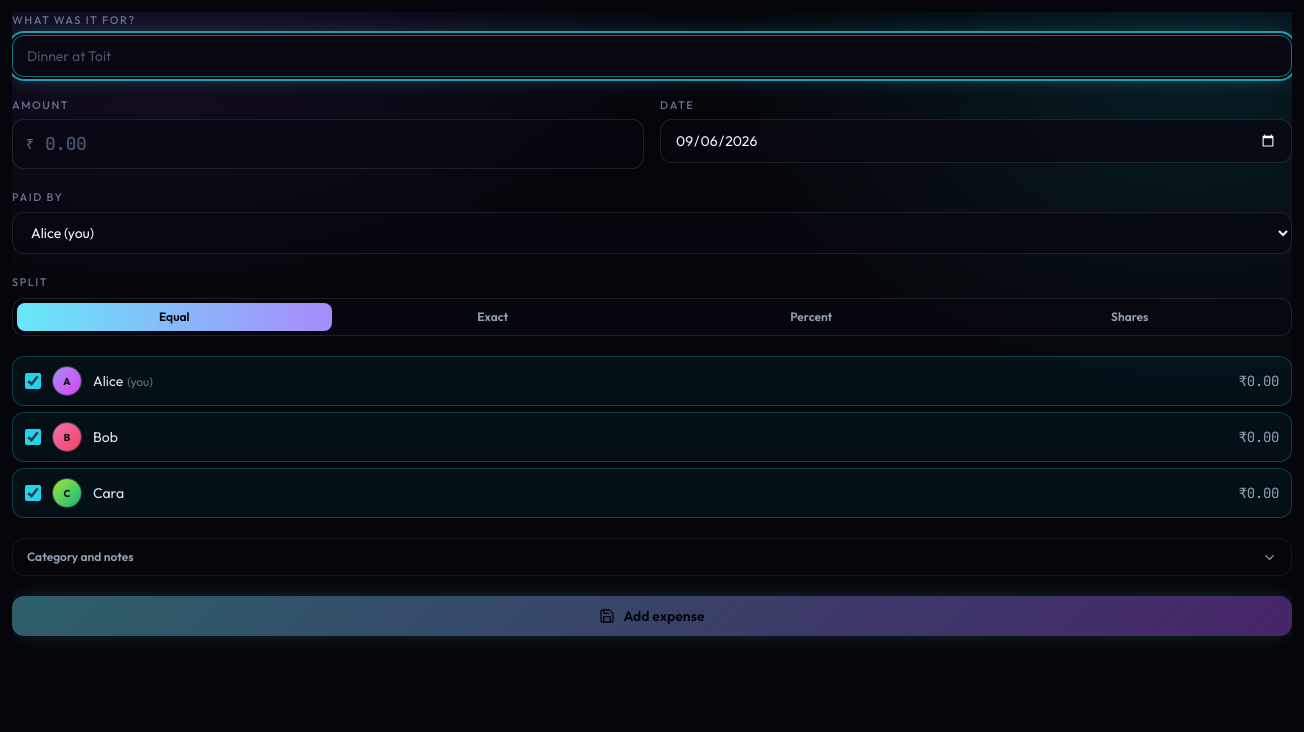
ExpenseForm › split-total validation › distributes evenly on demand
Type "Dinner" into the field labelled "What was it for?" at (652, 56), box [12, 34, 1292, 76]
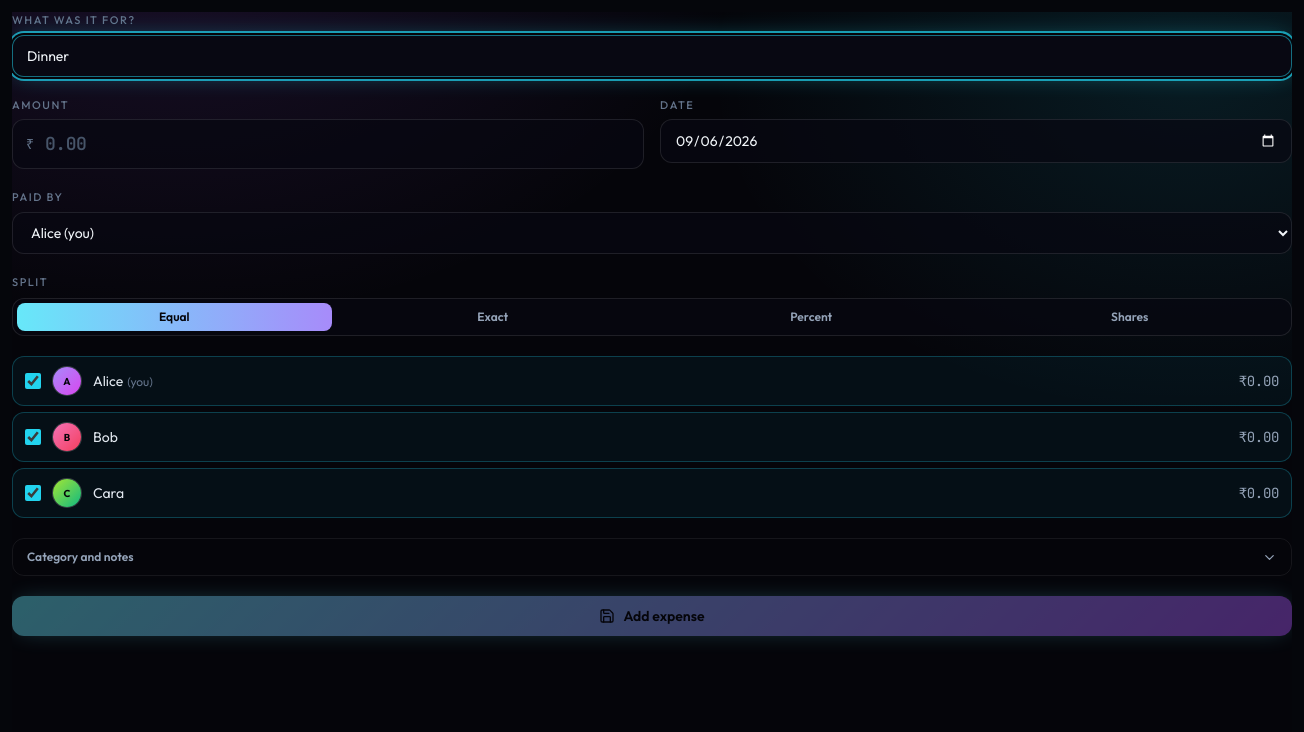
Type "100" into the field labelled "Amount" at (328, 144), box [12, 119, 644, 169]
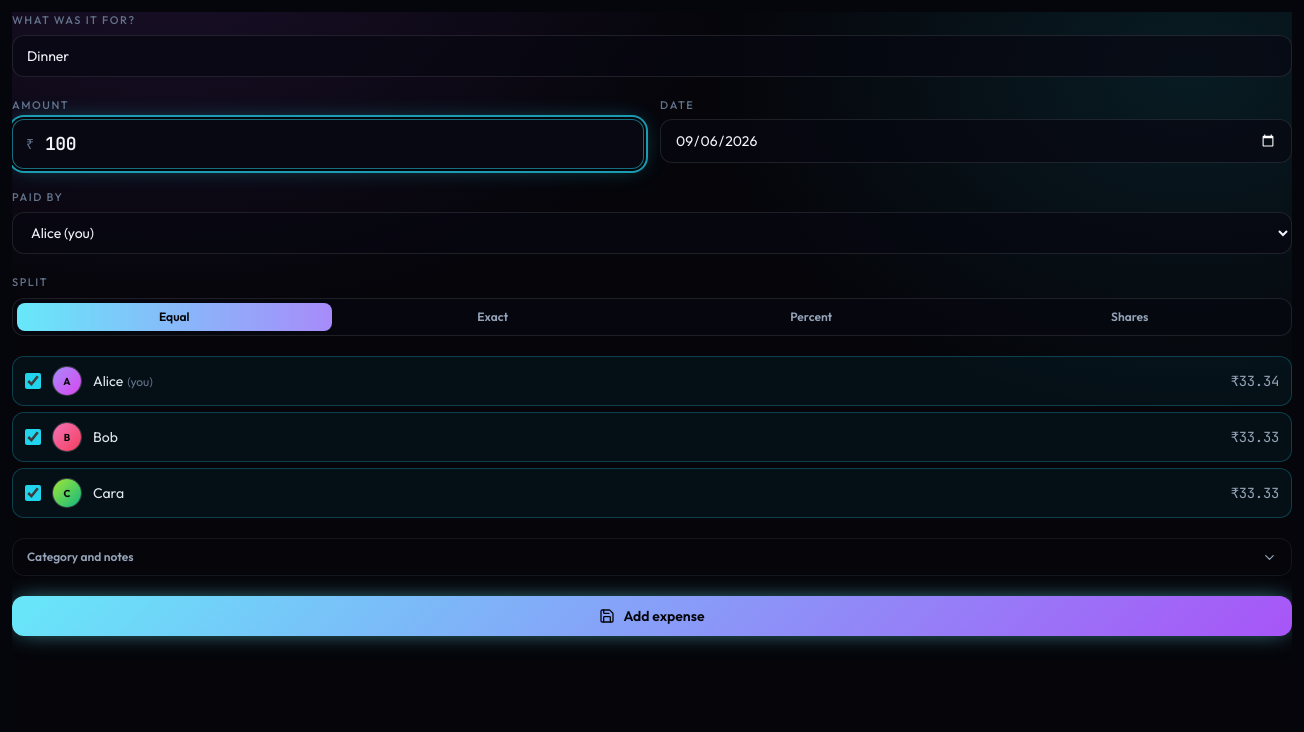
Click the button "Exact" at (493, 317), box [336, 303, 650, 331]
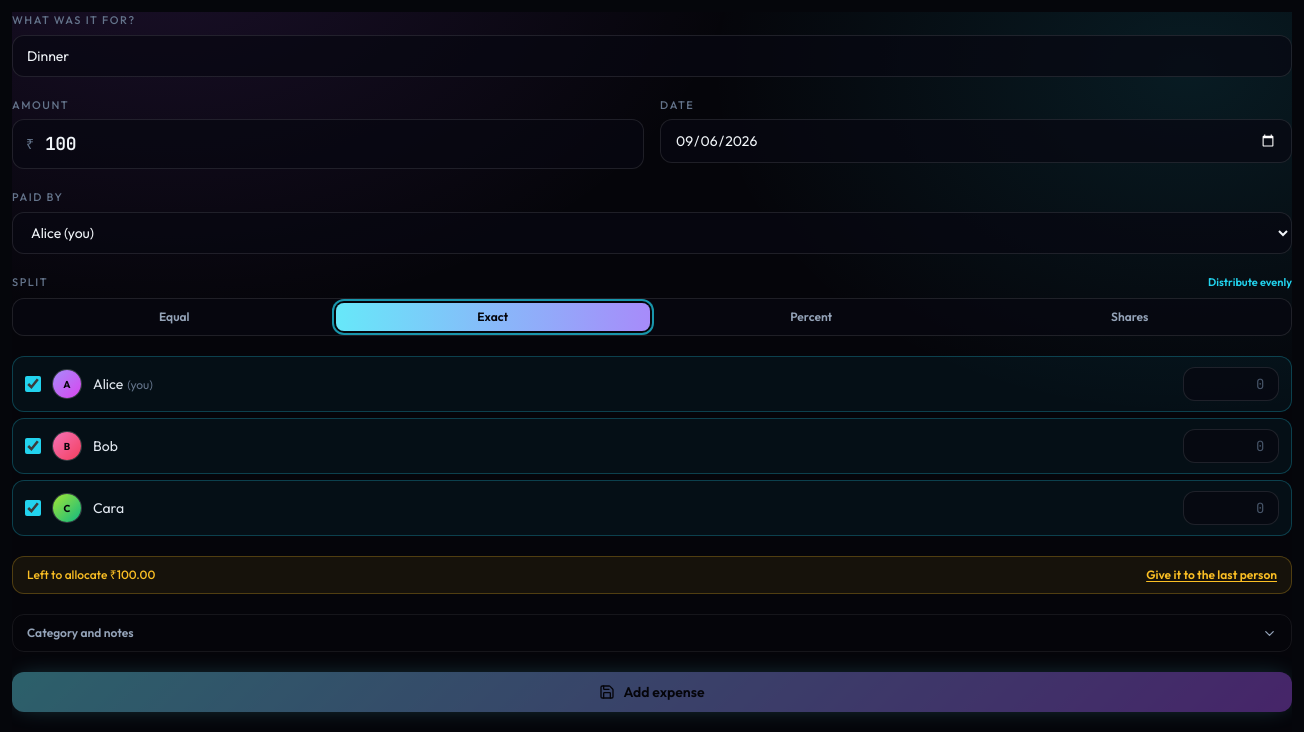
Click the button "Distribute evenly" at (1250, 282), box [1208, 274, 1292, 290]
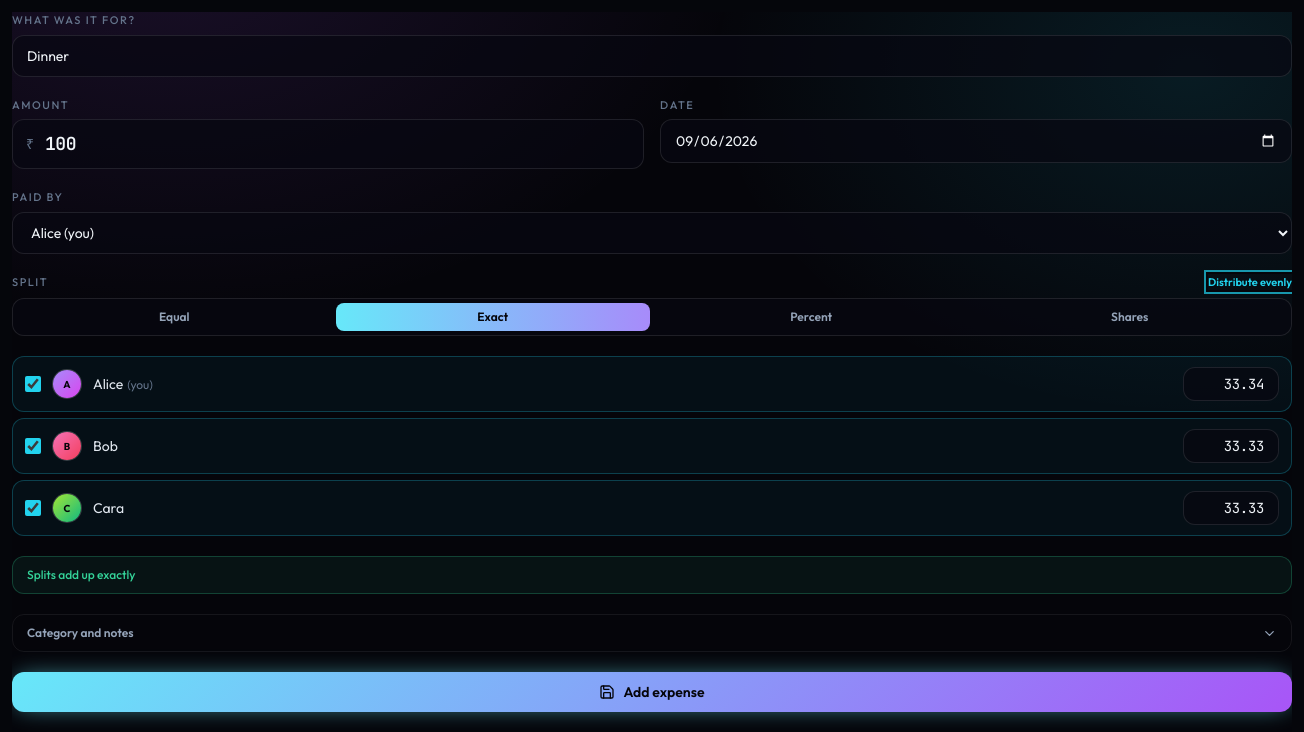
expect the text "Splits add up exactly" is shown: met, box [27, 567, 136, 583]
expect the button "Add expense" is enabled: met, box [12, 672, 1292, 712]
